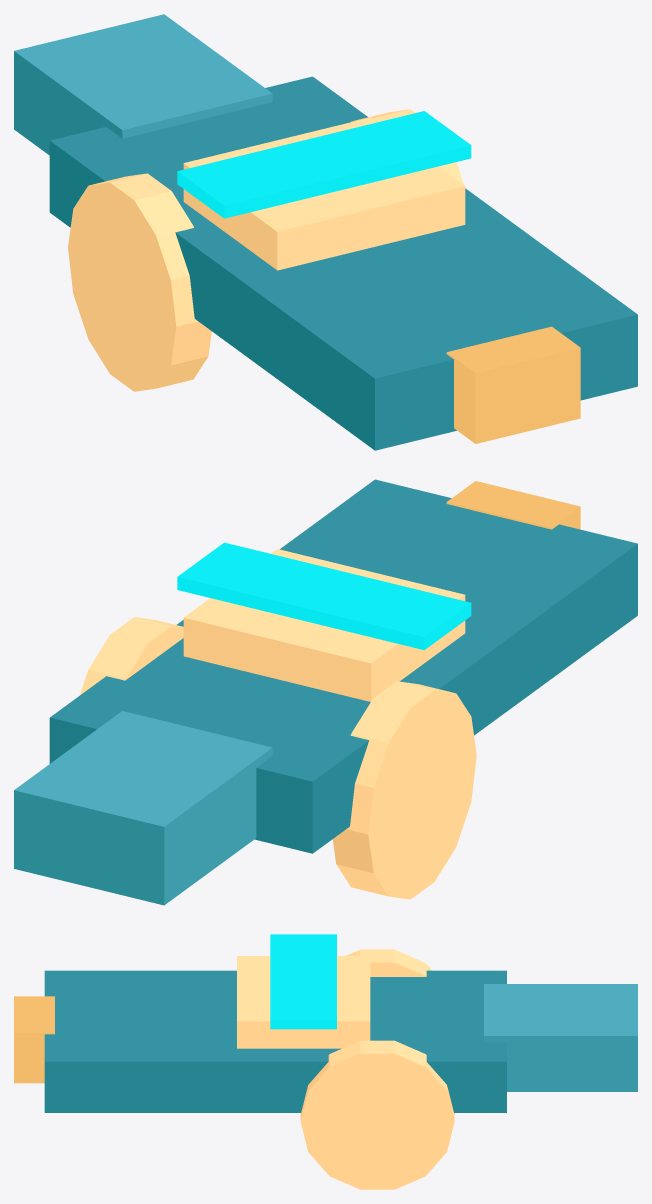
Rendered from chrome.glb.
3 views of the same model, one above another, from view 1: azimuth 30°, elevation 25°; view 2: azimuth 150°, elevation 25°; view 3: azimuth 270°, elevation 25° (orthographic). The views are drawn at different scales.
Parts seen in each view (by area): view 1: chassis, wheel_l, body_nose, canopy_wheel, glow_strip_roof, emitter; view 2: chassis, body_nose, wheel_l, canopy_wheel, glow_strip_roof, wheel_r, emitter; view 3: chassis, wheel_r, body_nose, canopy_wheel, glow_strip_roof, emitter, wheel_l.
Part boxes in pixels (box(x1,y1,x2,y2)): chassis: box(49, 76, 637, 450); wheel_l: box(68, 173, 211, 391); body_nose: box(14, 14, 272, 155); canopy_wheel: box(183, 117, 465, 270); glow_strip_roof: box(177, 111, 471, 218); emitter: box(446, 326, 580, 443); chassis: box(49, 479, 637, 853); body_nose: box(14, 711, 272, 905); wheel_l: box(332, 681, 476, 899); canopy_wheel: box(183, 549, 465, 701); glow_strip_roof: box(177, 542, 471, 650); wheel_r: box(79, 617, 183, 695); emitter: box(446, 481, 580, 529); chassis: box(44, 970, 506, 1112); wheel_r: box(300, 1040, 454, 1189); body_nose: box(484, 984, 637, 1091); canopy_wheel: box(237, 956, 370, 1048); glow_strip_roof: box(270, 934, 336, 1029); emitter: box(14, 996, 54, 1083); wheel_l: box(346, 949, 431, 976).
Bounding box in the file's own units: 0.48 × 0.3452 × 1.22.
